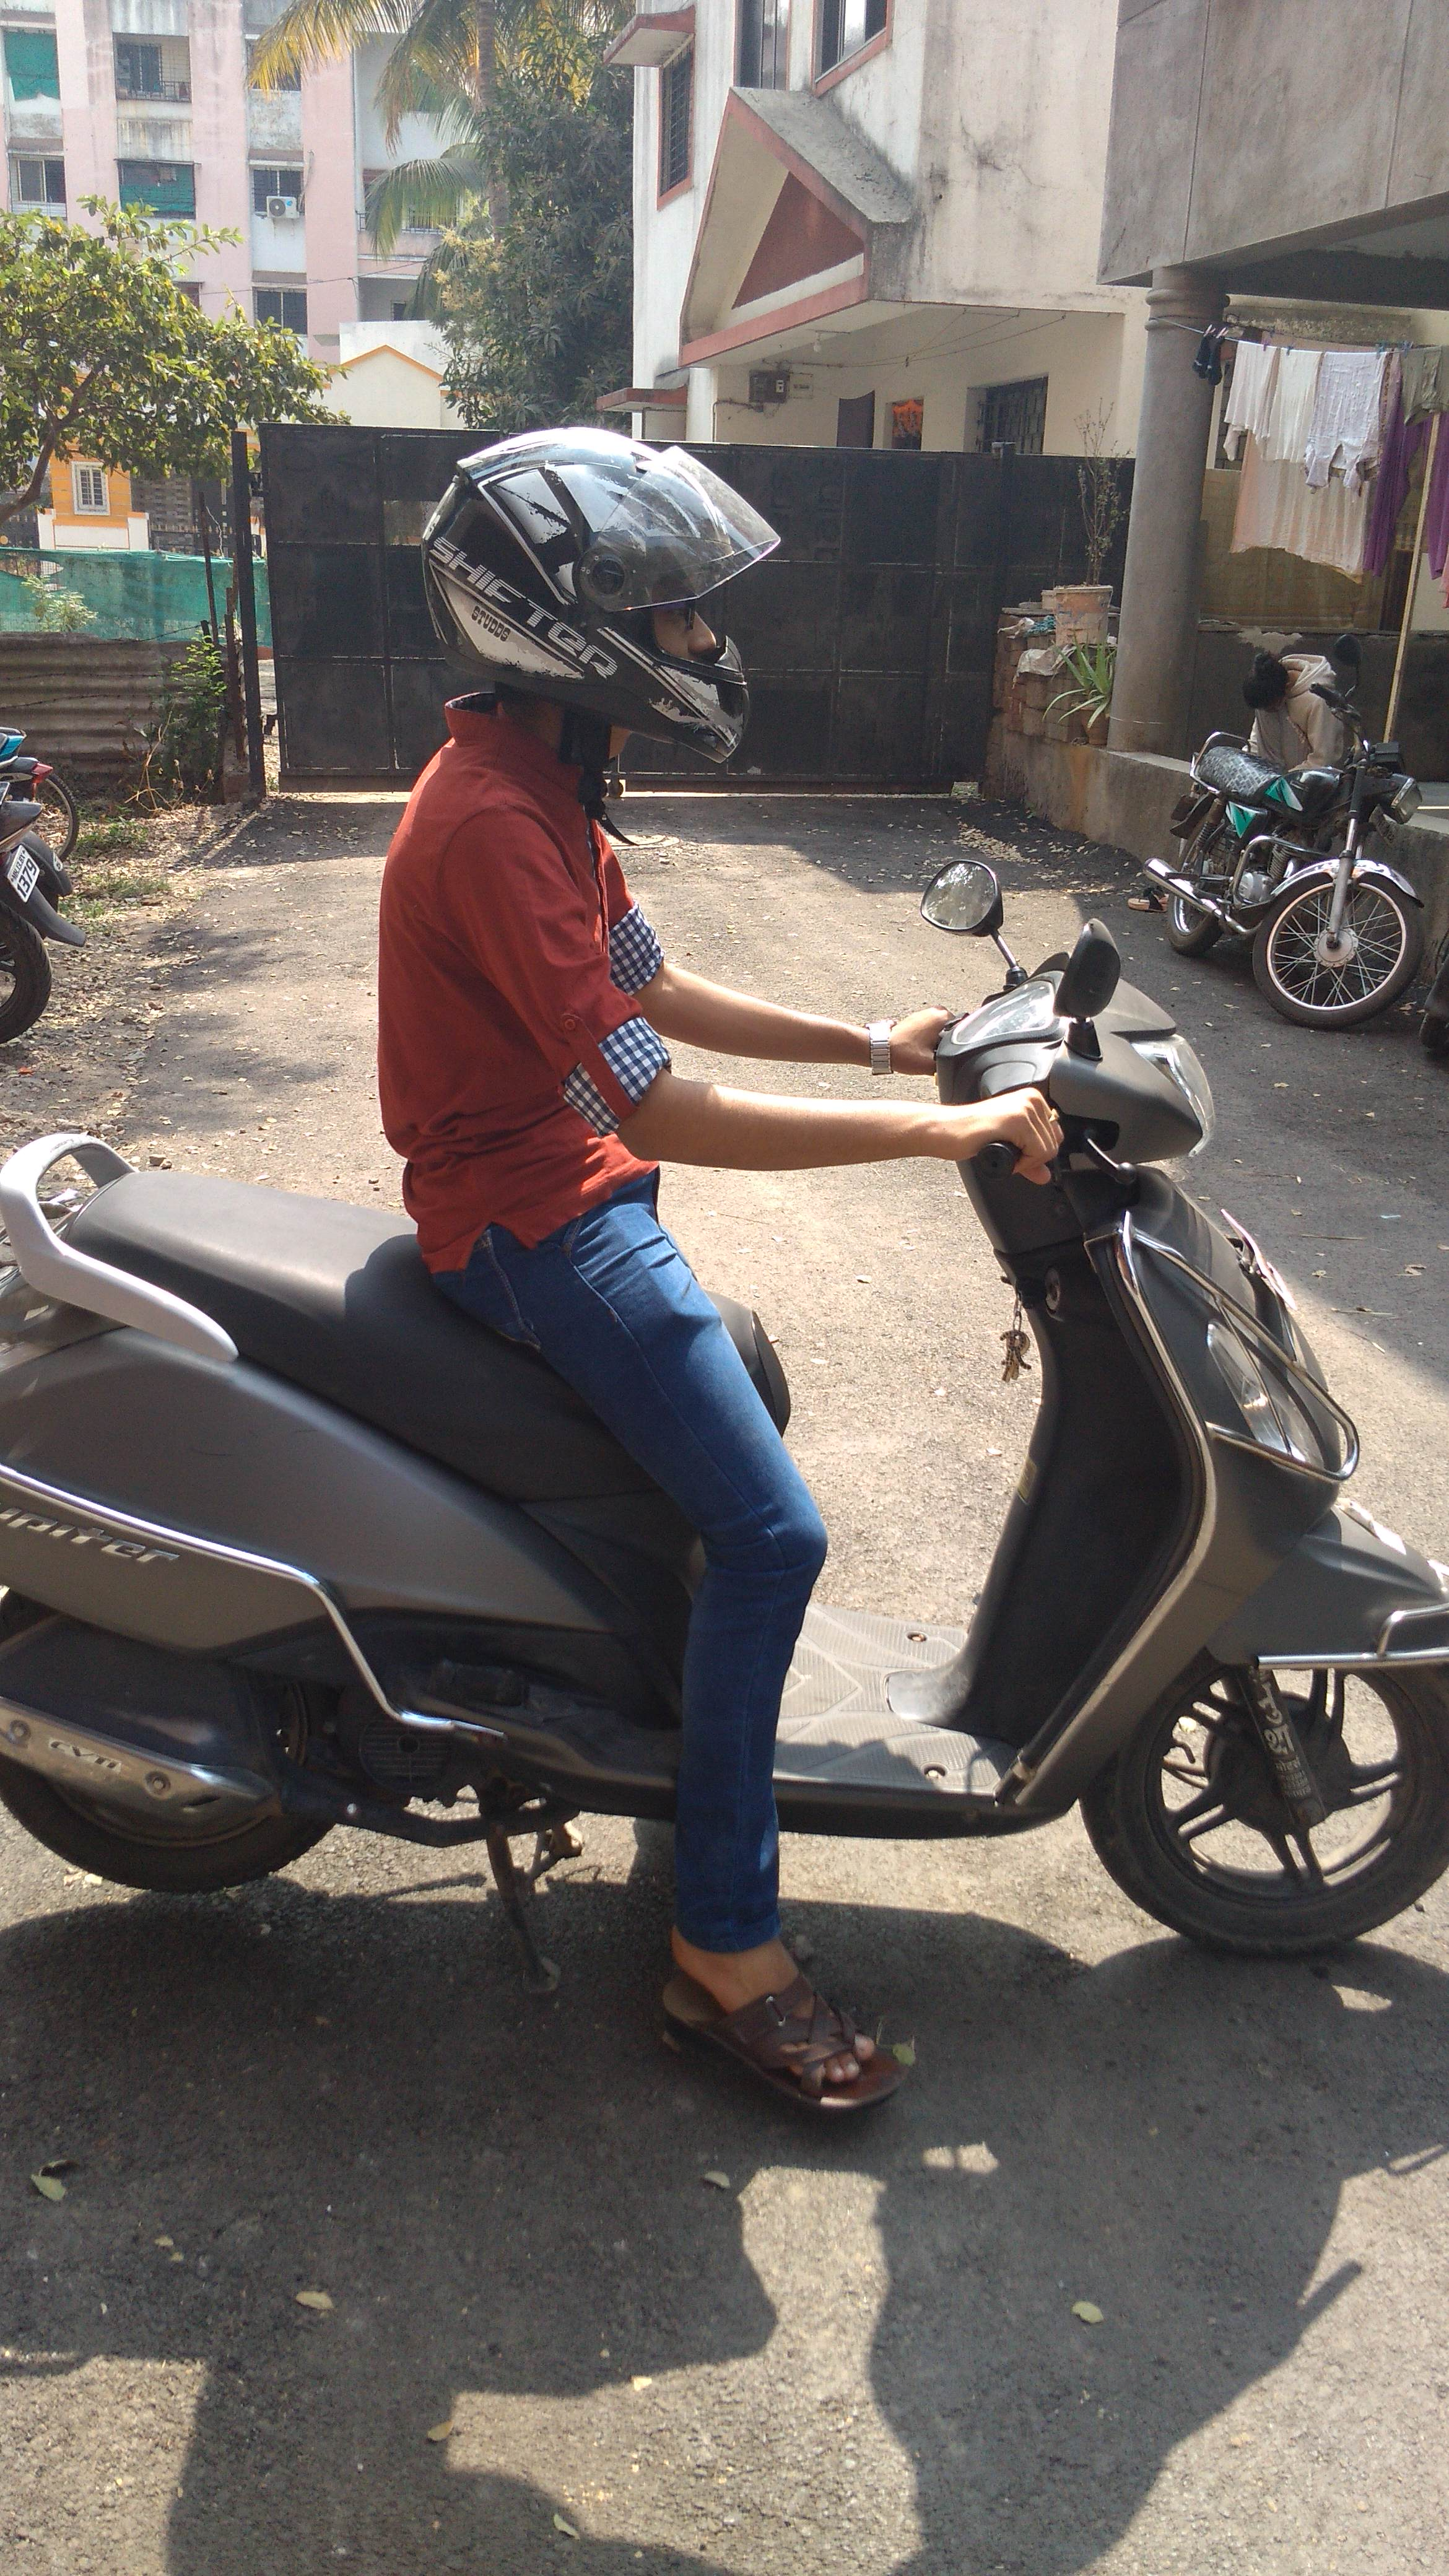helmet: (315, 405, 893, 1338)
